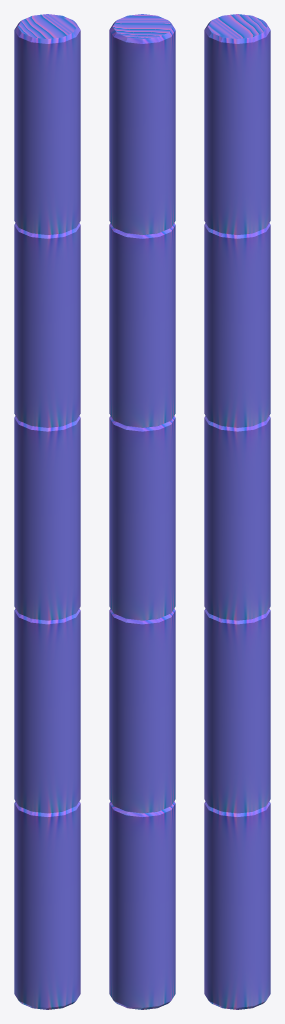
Rendered from stage_part.FBX.
3 renders of one model, left to right at view 1: azimuth 90°, elevation 25°; view 2: azimuth 150°, elevation 25°; view 3: azimuth 270°, elevation 25°, orthographic.
Parts seen in each view (by area): view 1: Cylinder001; view 2: Cylinder001; view 3: Cylinder001.
Part boxes in pixels (<box>): Cylinder001: <box>14,14,80,1009</box>; Cylinder001: <box>109,14,175,1009</box>; Cylinder001: <box>204,14,270,1009</box>.
Bounding box in the file's own units: 19.86 × 320 × 19.86.
